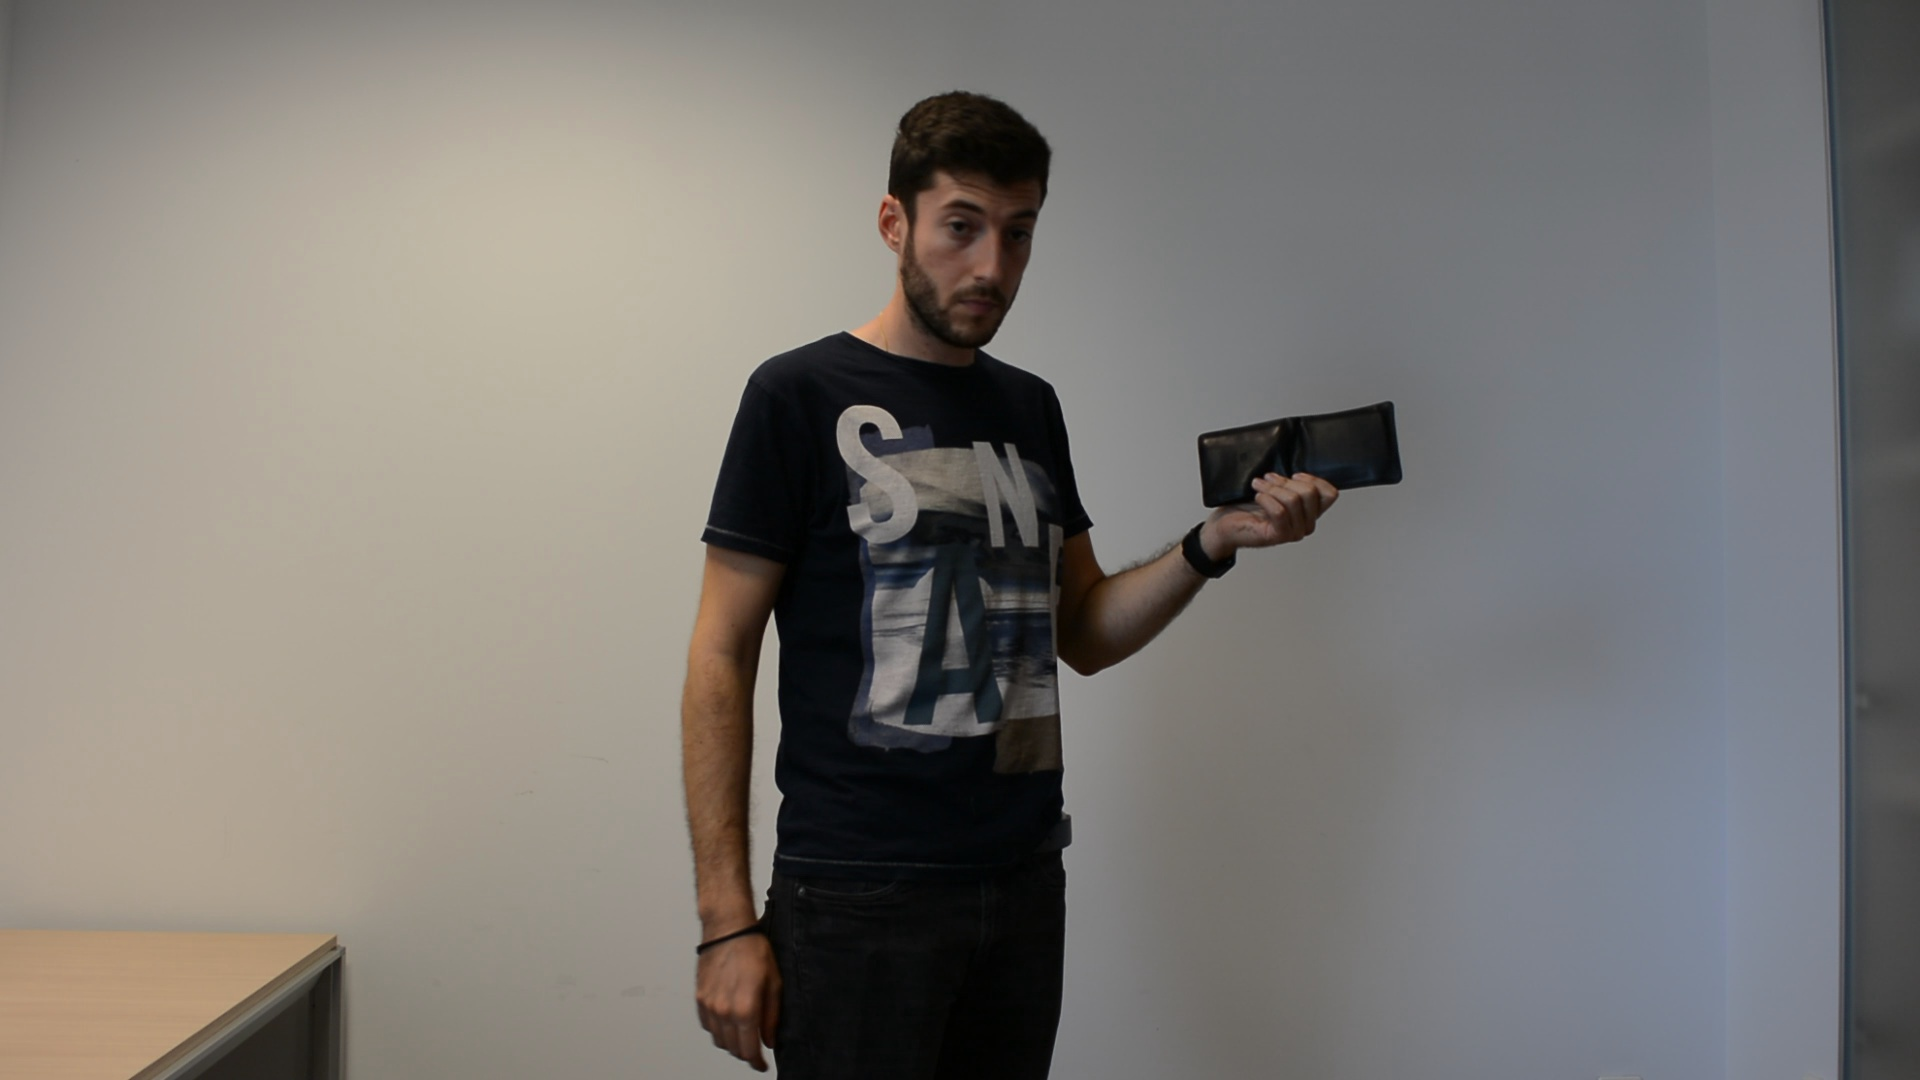monedero: (1193, 396, 1406, 510)
